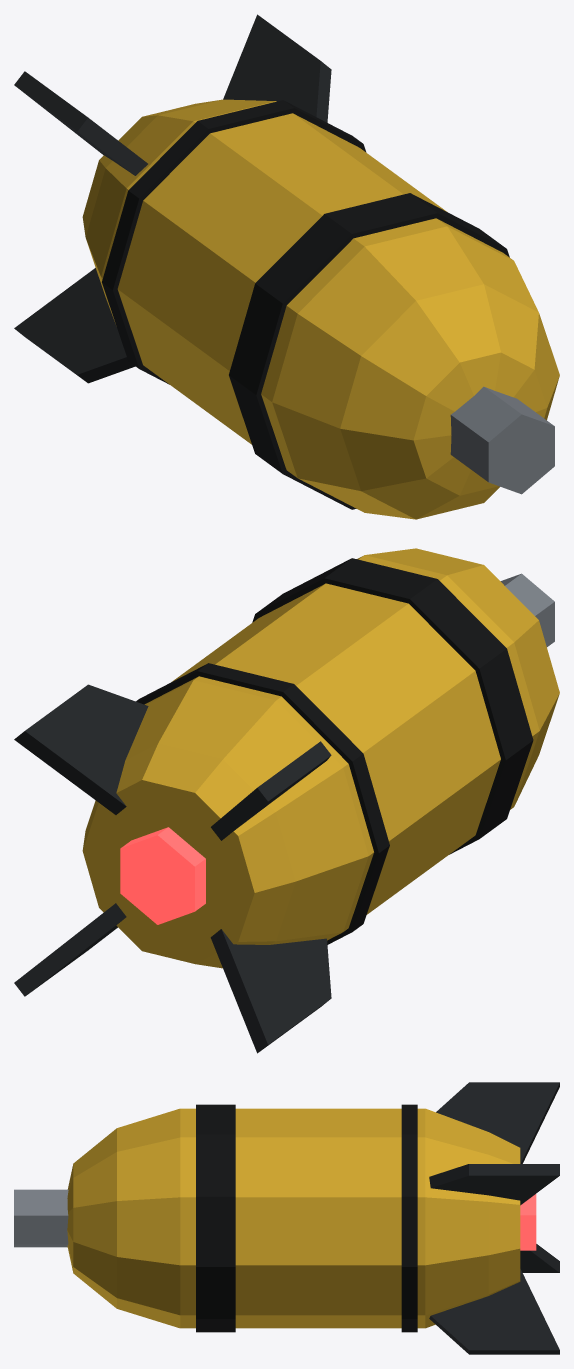
The model's file is shell_bomblet.fbx.
3 views of the same model, one above another, from view 1: azimuth 30°, elevation 25°; view 2: azimuth 150°, elevation 25°; view 3: azimuth 270°, elevation 25° (orthographic). The views are drawn at different scales.
Visible parts, largest first — view 1: Body; view 2: Body, Glow; view 3: Body, Glow.
Part boxes in pixels (<box>): Body: <box>14,14,559,519</box>; Body: <box>14,548,559,1053</box>; Glow: <box>120,827,205,924</box>; Body: <box>14,1082,559,1354</box>; Glow: <box>520,1194,536,1250</box>.
Bounding box in the file's own units: 0.29 × 0.2758 × 0.69.
2 materials, 1 textured.
